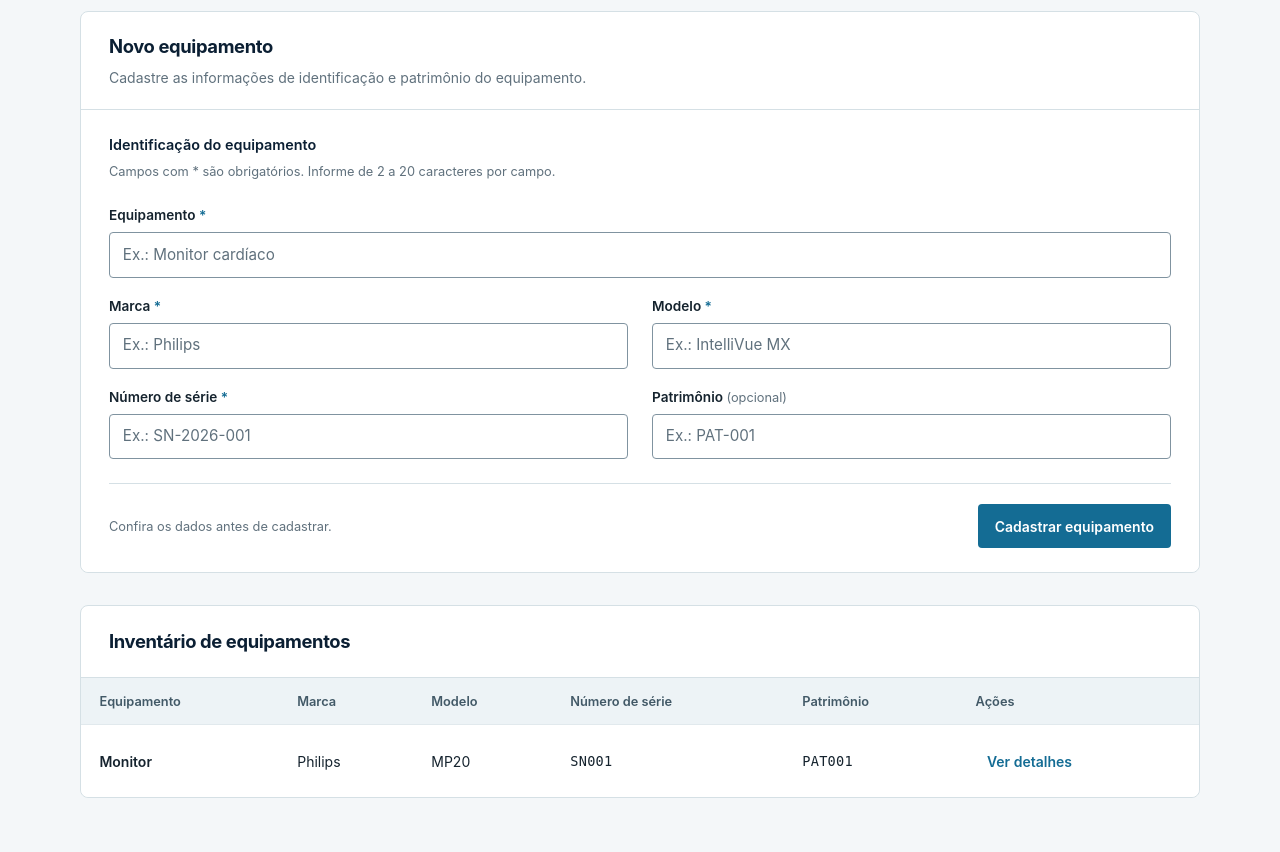
Test: mostra mensagem amigável para 400 e preserva o formulário para correção
The width and height of the screenshot is (1280, 852).
(page scrolled)
Click the button with aria-label "Ver detalhes de Monitor (SN001)". click: [1029, 761]
box: x1=976 y1=739 x2=1083 y2=783
(page scrolled)
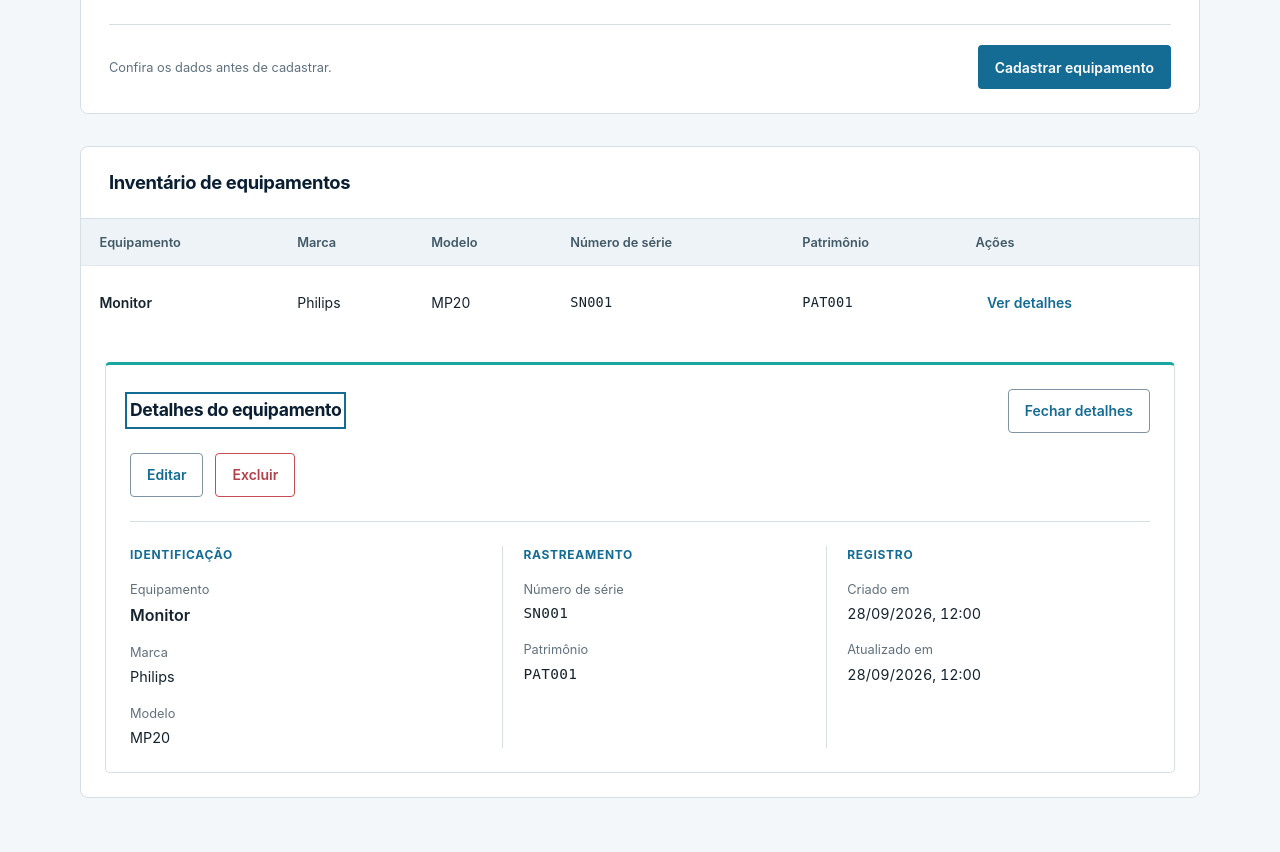
Click the button "Editar". click: [167, 475]
box: x1=130 y1=453 x2=204 y2=497
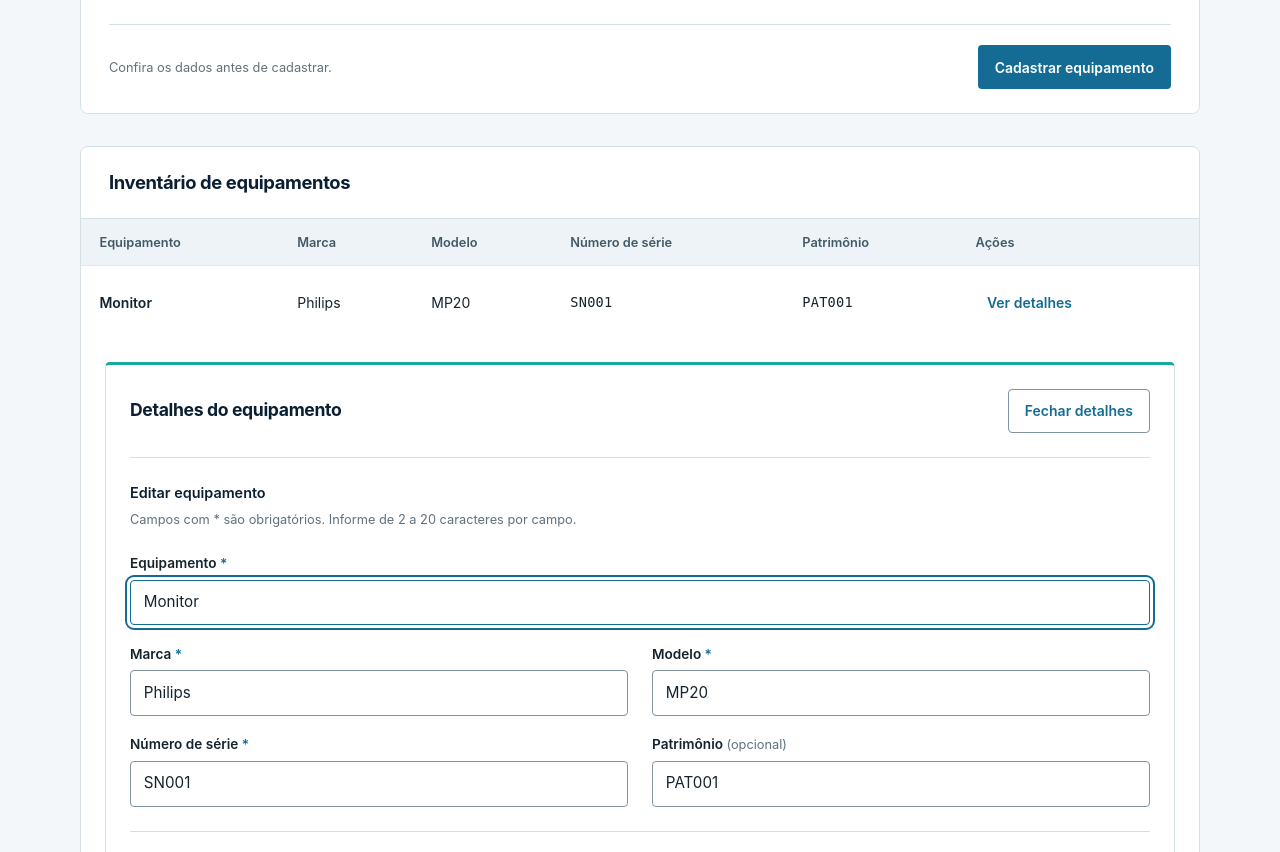
Replace the text in the field labelled "Modelo" with "Novo modelo". click: [901, 693]
box: x1=652 y1=670 x2=1150 y2=716
(page scrolled)
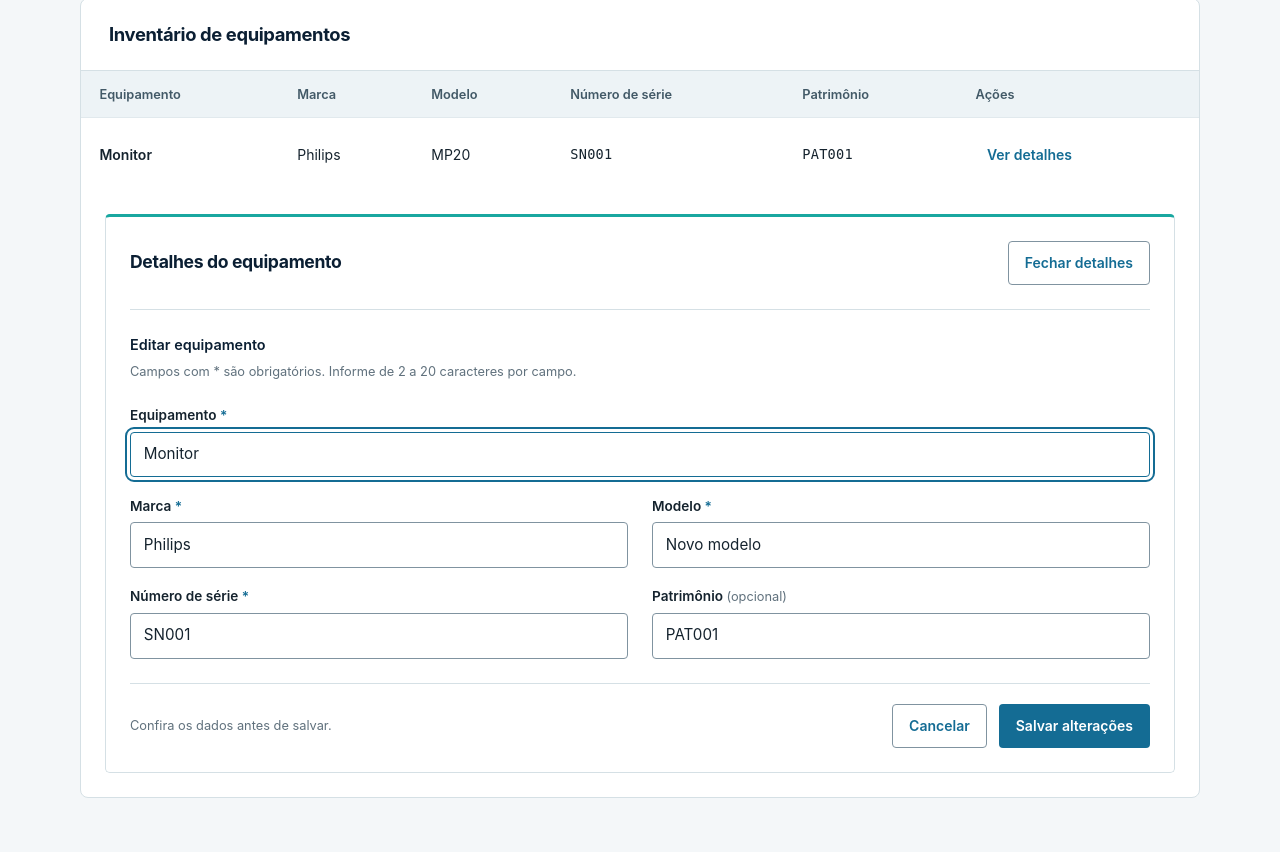
Click the button "Salvar alterações". click: [1074, 726]
box: x1=999 y1=704 x2=1150 y2=748
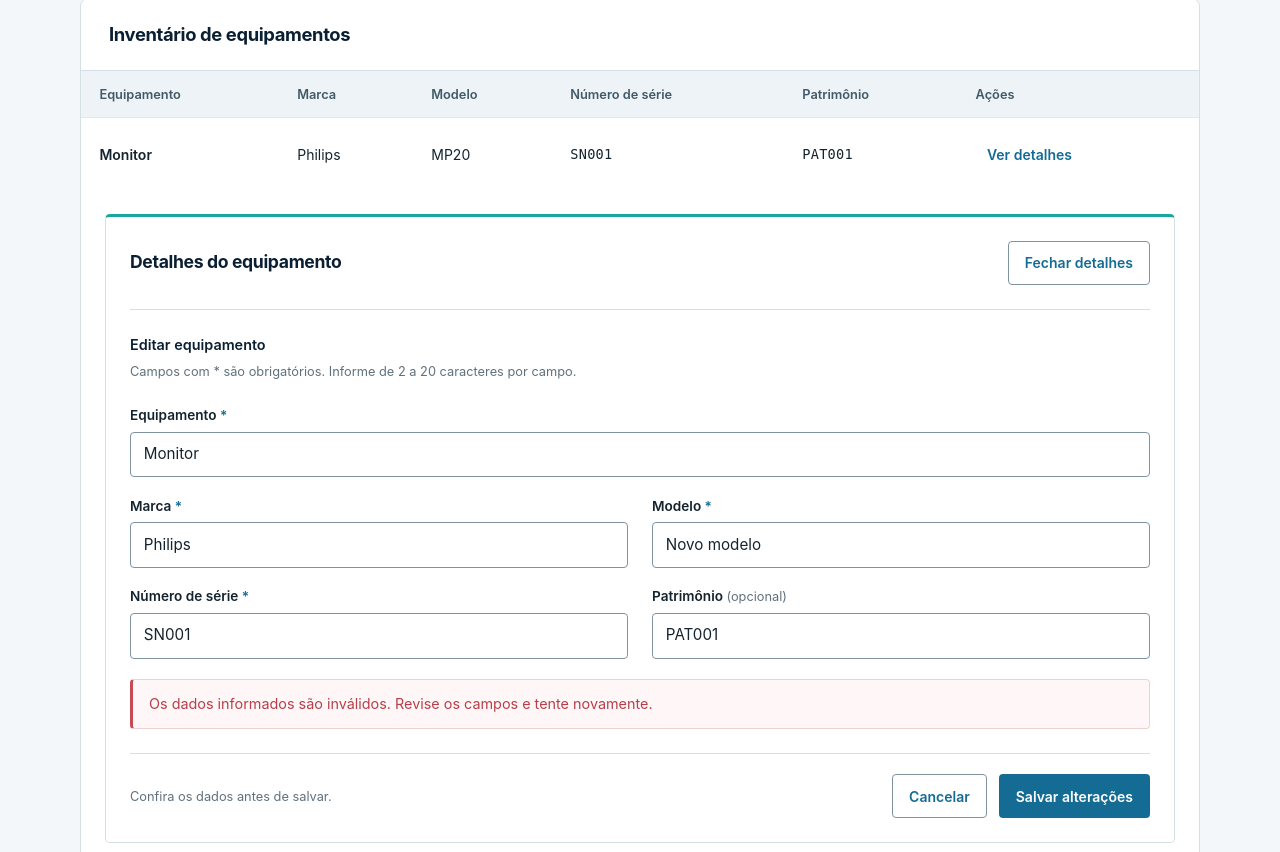
Expected: the cell "MP20" is shown, x1=413 y1=118 x2=552 y2=190
Now the button "Salvar alterações" is enabled, box x1=999 y1=774 x2=1150 y2=818
Now the message "Os dados informados são inválidos. Revise os campos e tente novamente." is shown, box x1=130 y1=679 x2=1150 y2=729
